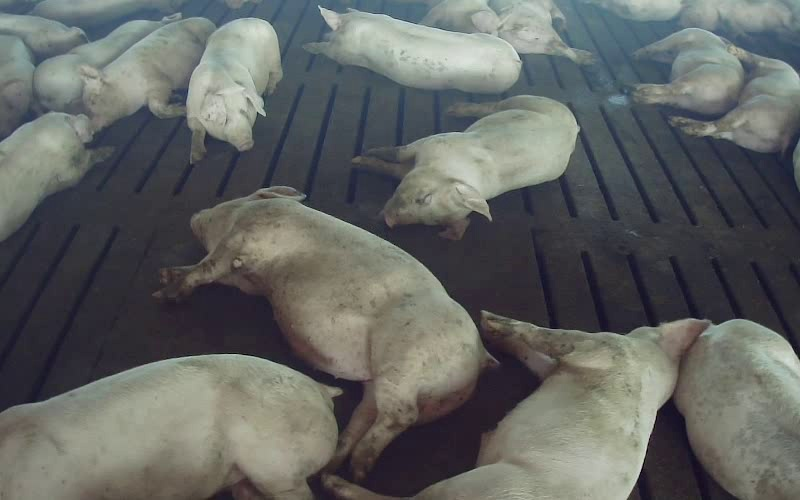pig: (156, 189, 493, 477), (323, 311, 709, 499), (0, 355, 339, 499), (352, 96, 578, 239), (674, 319, 799, 499), (304, 7, 521, 92), (81, 17, 215, 130), (33, 13, 180, 113), (0, 112, 112, 240), (186, 18, 282, 163), (670, 46, 799, 152), (632, 28, 743, 114)
